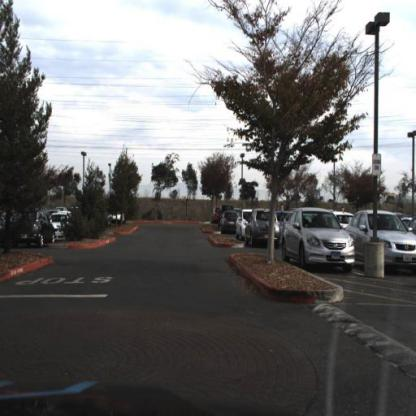car: (283, 208, 354, 273), (352, 210, 416, 272), (9, 206, 57, 245), (245, 209, 279, 247), (53, 209, 72, 245), (218, 213, 237, 236), (236, 209, 250, 239), (112, 212, 126, 226)
